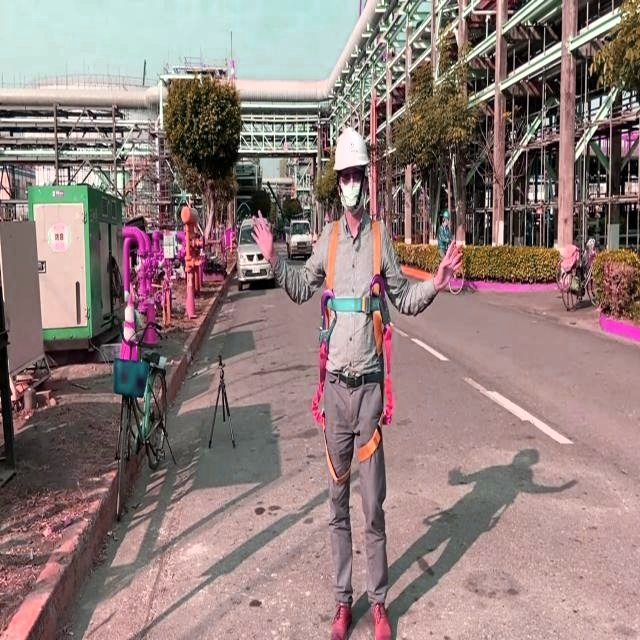safety belt: (319, 219, 394, 473)
